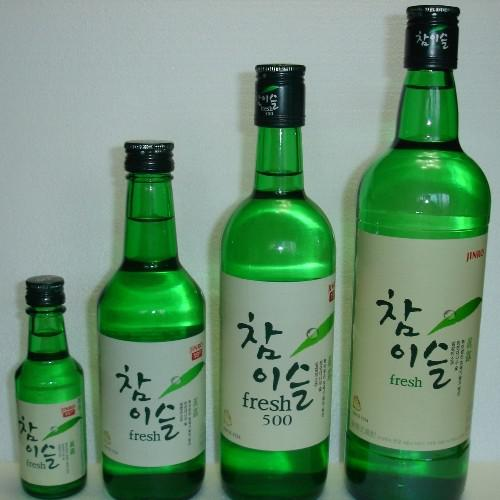soju: (6, 3, 494, 500)
